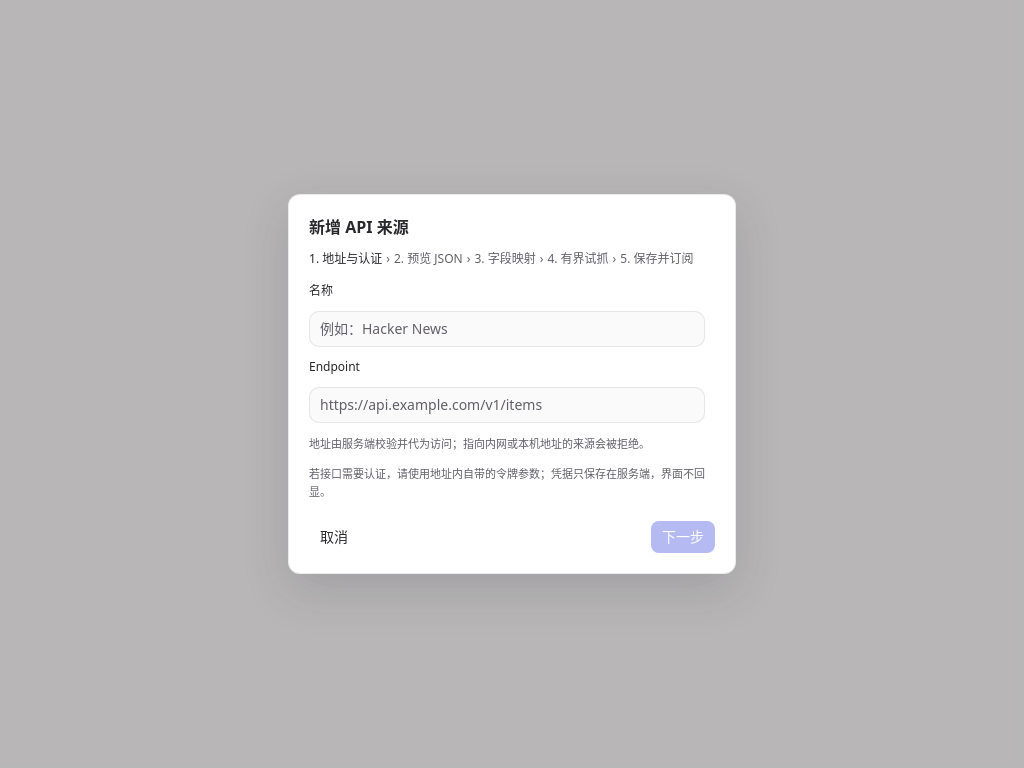
Test: 新增 API 来源分步向导 › 地址非法时第一步不放行并给出提示
The width and height of the screenshot is (1024, 768).
In the field labelled "名称": coordinates (507, 329) [309,311,705,347], type "X"
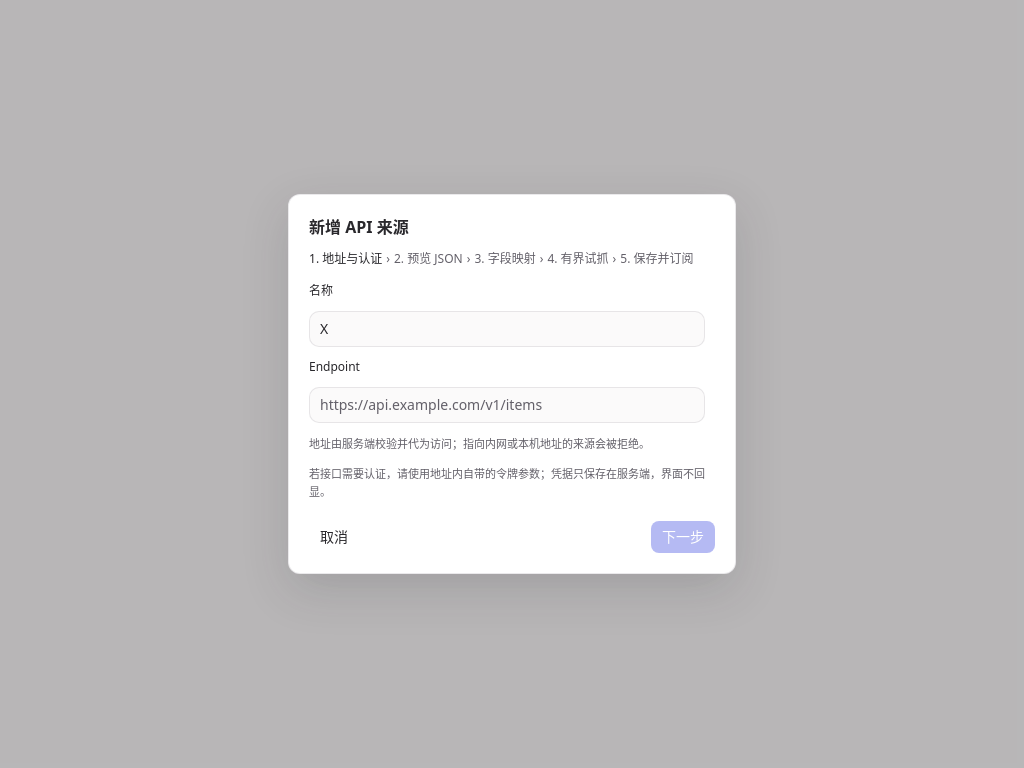
In the field labelled "Endpoint": coordinates (507, 405) [309,387,705,423], type "not-a-url"
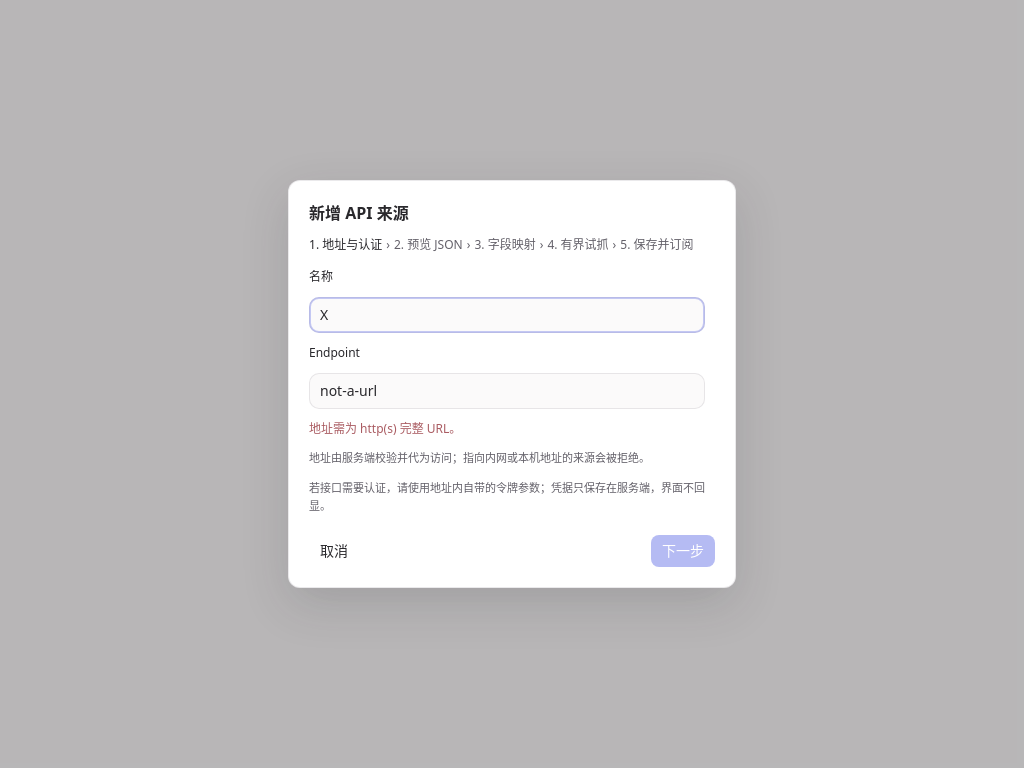
Expected: the button "下一步" is disabled, [651,535,715,567]
Now the text "地址需为 http(s) 完整 URL。" is shown, box [309,420,461,437]
